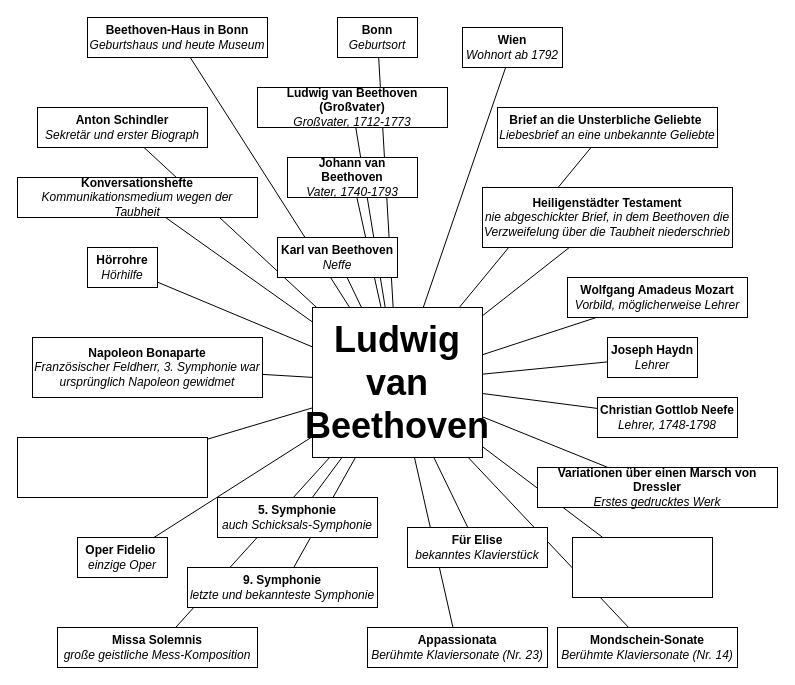
The diagram is 795 pixels wide and 685 high, and some of its shapes have lost their labels. Here are the shapes that lost their labels. From the top down, the centre of each, then its label:
At point (112, 467): "Wellingtons Sieg Komposition über den Sieg von Wellington über Napolean".
At point (642, 567): "Diabelli-Variationen Klavierwerk über eine Thema von Diabelli".
